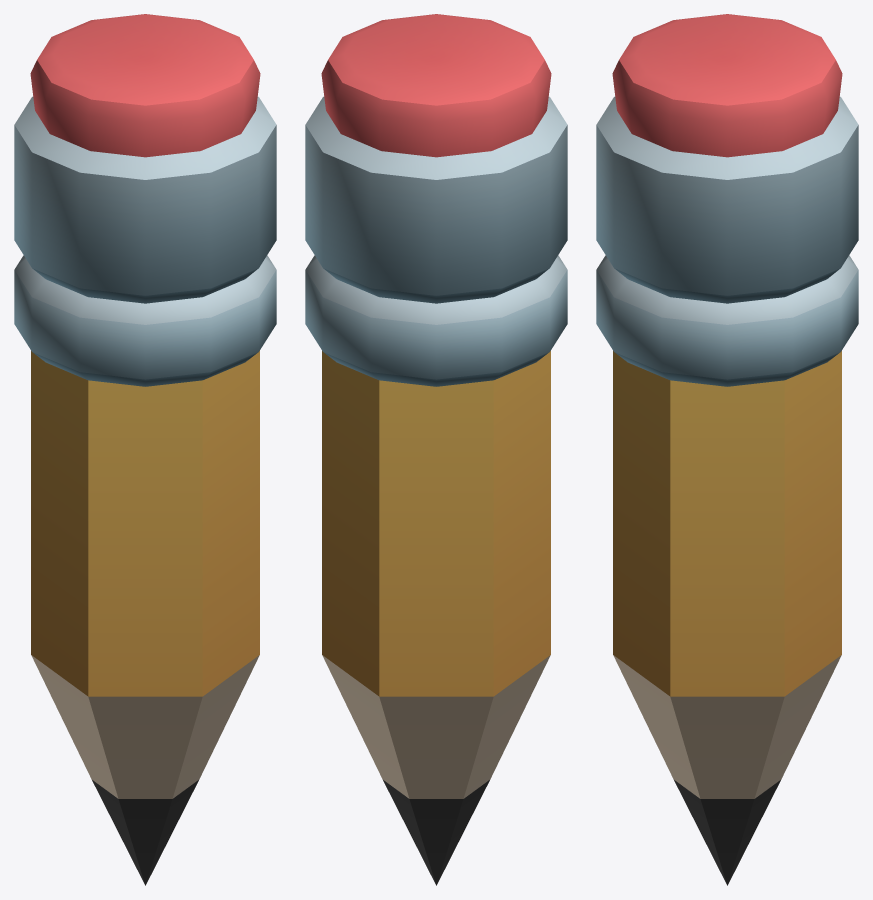
Rendered from pencil_B_short.obj.
3 views of the same model, side by side, from view 1: azimuth 30°, elevation 25°; view 2: azimuth 150°, elevation 25°; view 3: azimuth 270°, elevation 25° (orthographic).
Visible parts, largest first — view 1: pencil_B_short; view 2: pencil_B_short; view 3: pencil_B_short.
Part boxes in pixels (x1,y1,x2,y2): pencil_B_short: (14,14,276,885); pencil_B_short: (305,14,567,885); pencil_B_short: (596,14,858,885).
Size of the model in its own units: 0.1138 by 0.3985 by 0.1138.
Materials: 1 (1 with a texture image).
